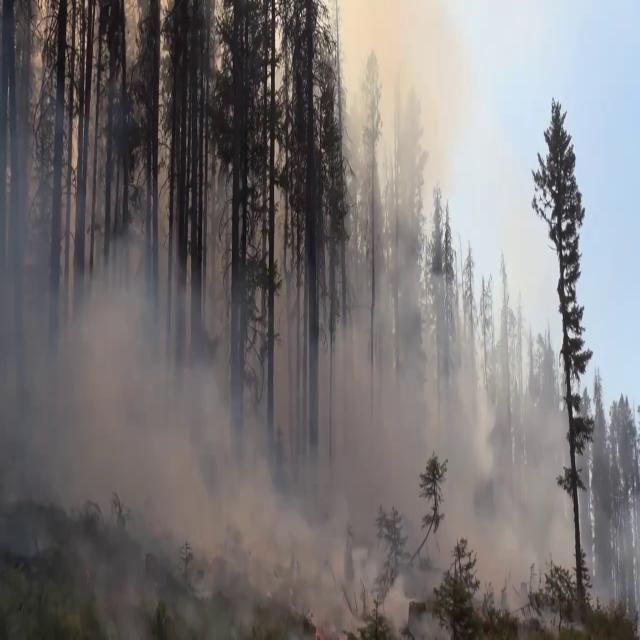Smoke: (0, 160, 606, 618), (313, 13, 629, 620)
